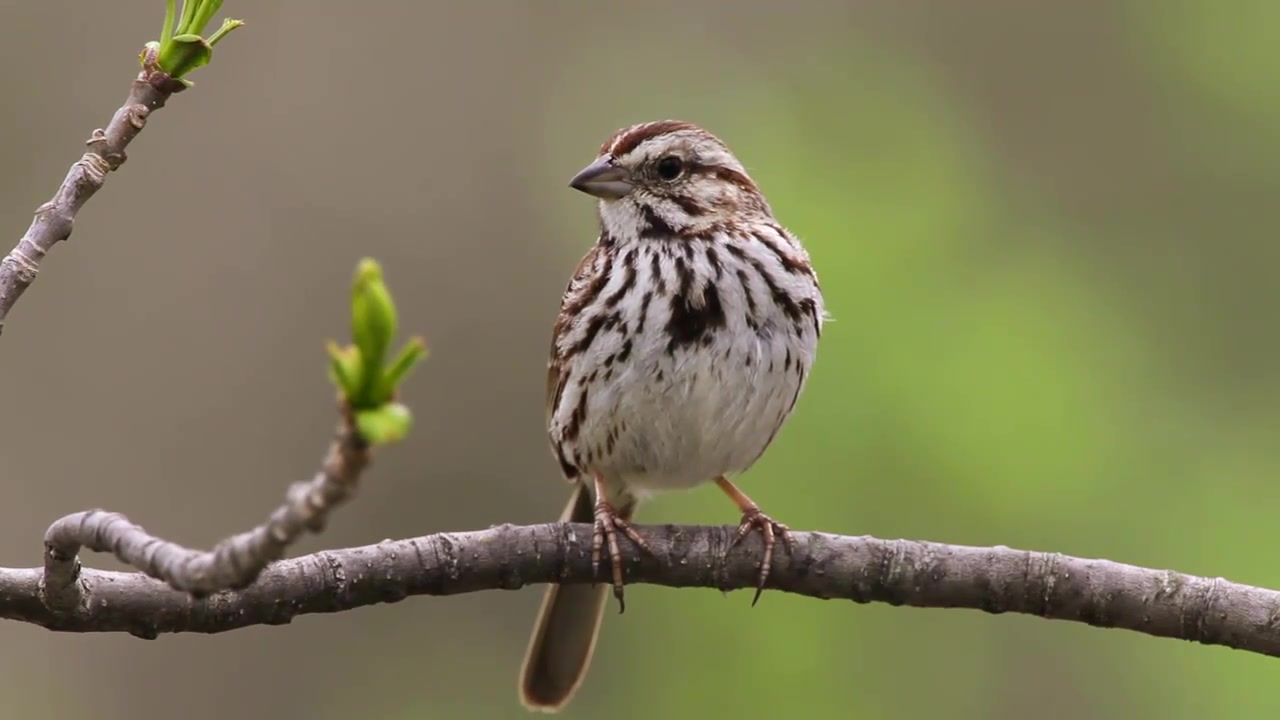bird: (520, 119, 839, 712)
